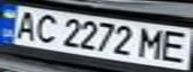2: (112, 21, 139, 57), (57, 16, 84, 50), (75, 17, 100, 52)
7: (93, 20, 118, 54)
A: (9, 8, 42, 41)
C: (30, 11, 60, 45)
E: (157, 28, 193, 63)
M: (136, 25, 172, 61)
